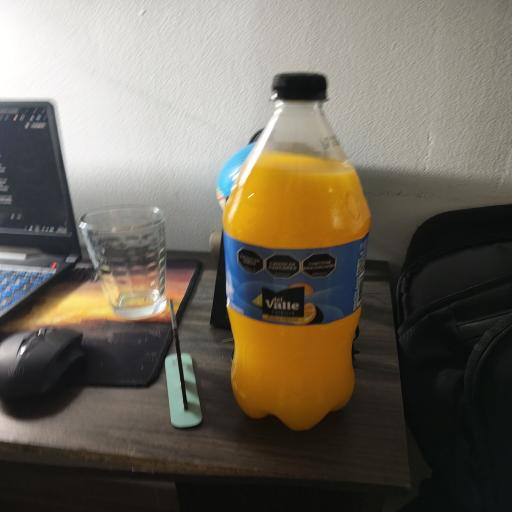Jugo del valle: (223, 74, 370, 430)
